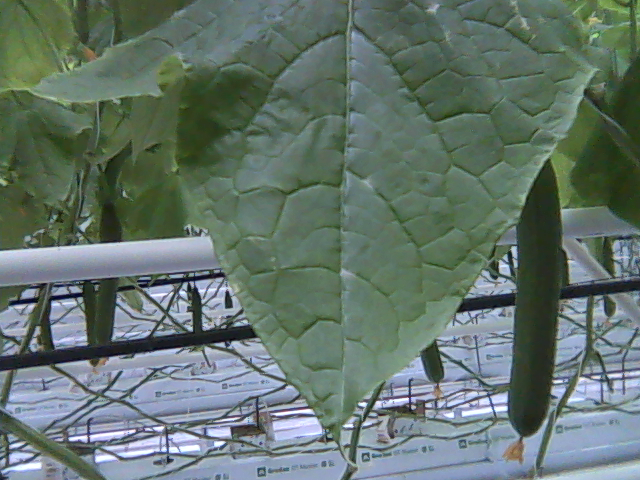concombre: (503, 160, 569, 463)
